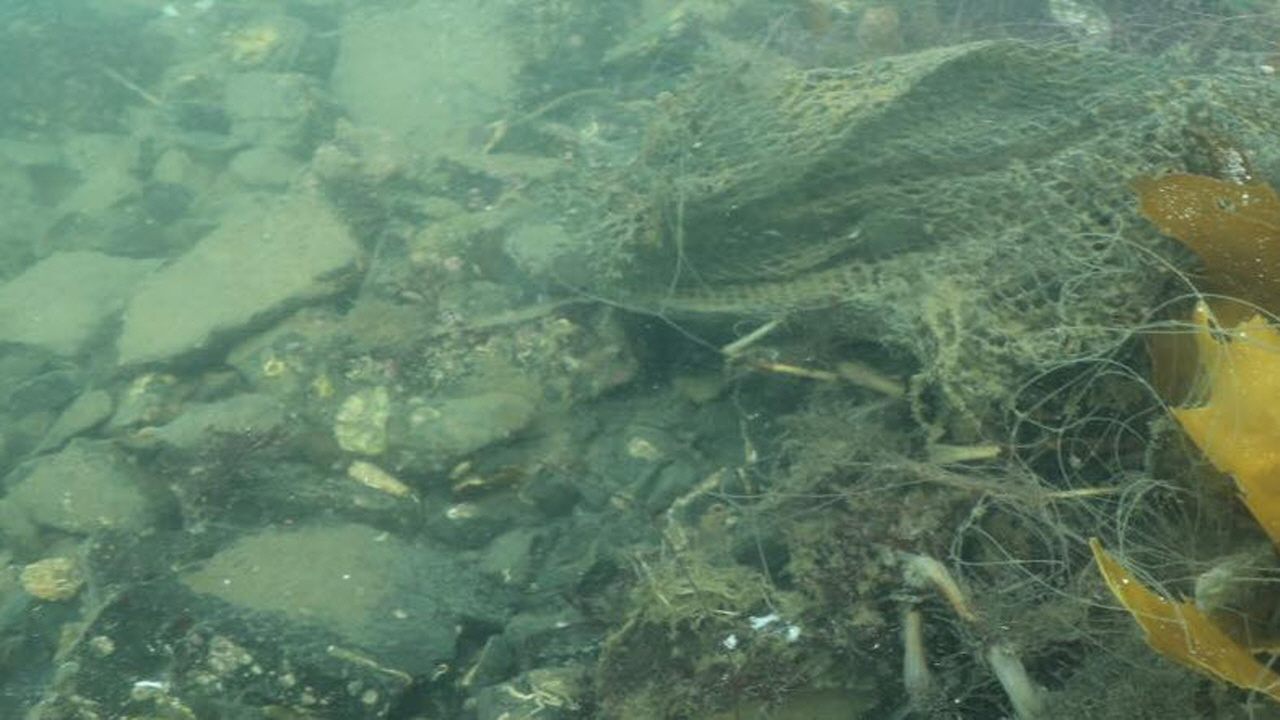fish net: (545, 38, 1280, 413)
